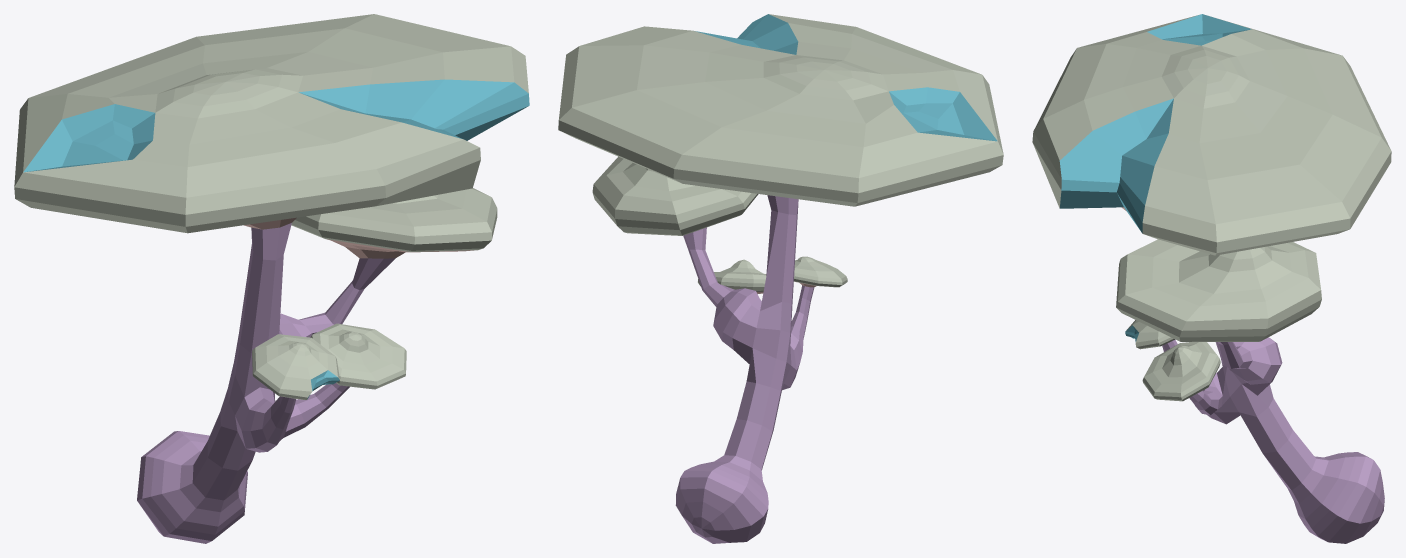
Rendered from Tree_15_Var_02.fbx.
The picture shows the model from 3 angles, left to right: view 1: azimuth 30°, elevation 25°; view 2: azimuth 150°, elevation 25°; view 3: azimuth 270°, elevation 25°; orthographic projection. The views are drawn at different scales.
Visible parts, largest first — view 1: Tree_15_Var_02; view 2: Tree_15_Var_02; view 3: Tree_15_Var_02.
Part boxes in pixels (bbox=[...]): Tree_15_Var_02: bbox=[14, 14, 529, 543]; Tree_15_Var_02: bbox=[558, 14, 1003, 543]; Tree_15_Var_02: bbox=[1032, 14, 1391, 543].
Bounding box in the file's own units: 4.33 × 6.05 × 6.27.
